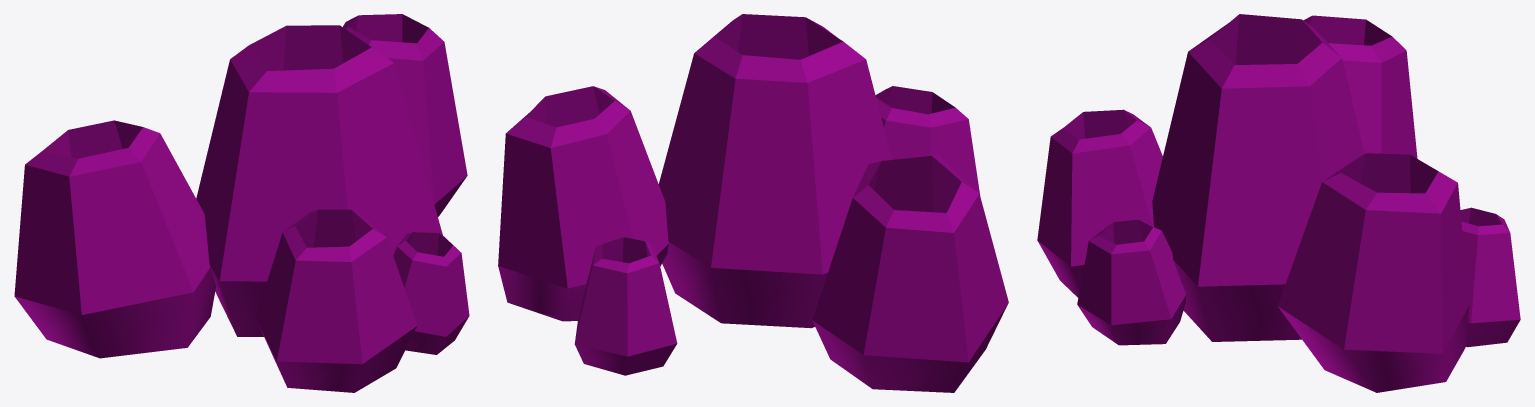
The model's file is underwater Stuff 2.fbx.
3 views of the same model, side by side, from view 1: azimuth 30°, elevation 25°; view 2: azimuth 150°, elevation 25°; view 3: azimuth 270°, elevation 25° (orthographic). The views are drawn at different scales.
Parts seen in each view (by area): view 1: pasted__pasted__pasted__pPipe1, pasted__pasted__pasted__pasted__pPipe1, pasted__pasted__pasted__pasted__pasted__pPipe1, pasted__pasted__pPipe1, pasted__pasted__pasted__pasted__pasted__pasted__pasted__pPip; view 2: pasted__pasted__pasted__pPipe1, pasted__pasted__pasted__pasted__pPipe1, pasted__pasted__pPipe1, pasted__pasted__pasted__pasted__pasted__pasted__pPipe1, pasted__pasted__pasted__pasted__pasted__pPipe1; view 3: pasted__pasted__pasted__pPipe1, pasted__pasted__pPipe1, pasted__pasted__pasted__pasted__pasted__pPipe1, pasted__pasted__pasted__pasted__pasted__pasted__pasted__pPip, pasted__pasted__pasted__pasted__pPipe1, pasted__pasted__pasted__pasted__pasted__pasted__pPipe1.
Boxes of the visible parts, x1,y1,x2,y2 form: pasted__pasted__pasted__pPipe1: (196,25,442,336); pasted__pasted__pasted__pasted__pPipe1: (14,120,215,358); pasted__pasted__pasted__pasted__pasted__pPipe1: (255,209,417,392); pasted__pasted__pPipe1: (343,14,467,216); pasted__pasted__pasted__pasted__pasted__pasted__pasted__pPip: (393,232,469,354); pasted__pasted__pasted__pPipe1: (658,14,891,328); pasted__pasted__pasted__pasted__pPipe1: (812,155,1008,392); pasted__pasted__pPipe1: (498,86,668,321); pasted__pasted__pasted__pasted__pasted__pasted__pPipe1: (574,237,677,375); pasted__pasted__pasted__pasted__pasted__pPipe1: (875,86,980,195); pasted__pasted__pasted__pPipe1: (1152,14,1364,341); pasted__pasted__pPipe1: (1278,153,1468,392); pasted__pasted__pasted__pasted__pasted__pPipe1: (1037,109,1162,297); pasted__pasted__pasted__pasted__pasted__pasted__pasted__pPip: (1077,219,1186,345); pasted__pasted__pasted__pasted__pPipe1: (1303,15,1417,158); pasted__pasted__pasted__pasted__pasted__pasted__pPipe1: (1460,207,1520,347).
Bounding box in the file's own units: 3.15 × 1.85 × 2.91.
